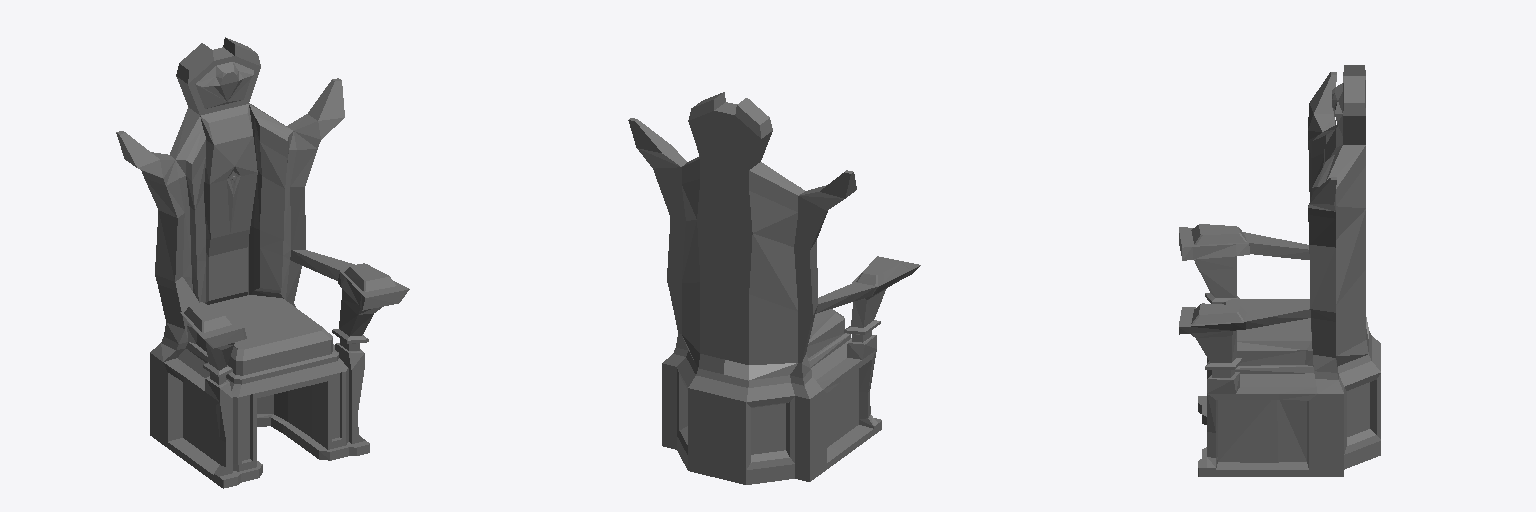
Rendered from Throne_Extra_Materials.obj.
The picture shows the model from 3 angles: view 1: azimuth 30°, elevation 25°; view 2: azimuth 150°, elevation 25°; view 3: azimuth 270°, elevation 25°; orthographic projection.
Visible parts, largest first — view 1: default; view 2: default; view 3: default.
Boxes of the visible parts, <box> form: default: <box>116,37,409,488</box>; default: <box>628,92,920,484</box>; default: <box>1179,65,1380,476</box>.
Size of the model in its own units: 4.71 by 7.47 by 3.71.